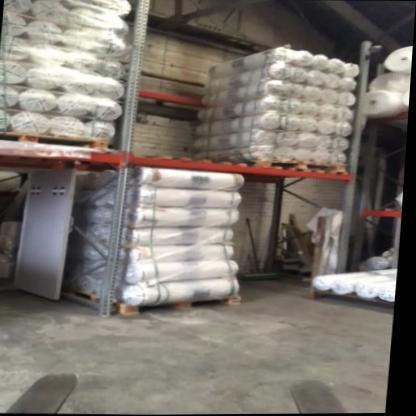vertical_damage: (101, 280, 139, 318)
